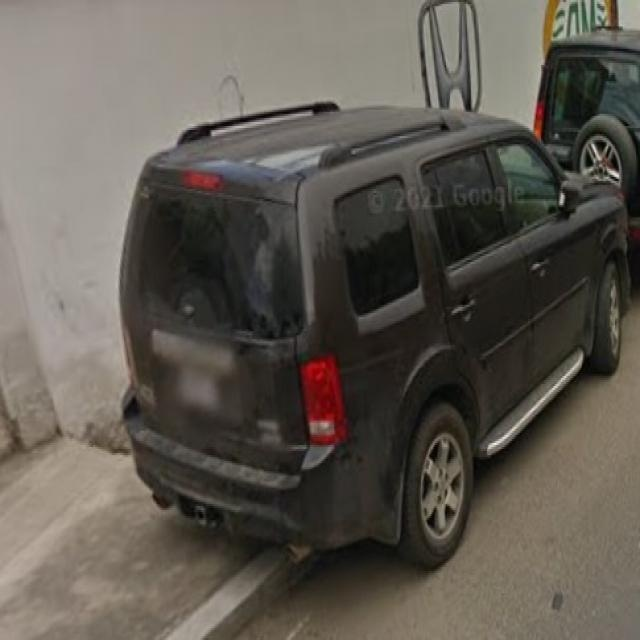Car: (117, 101, 636, 569)
